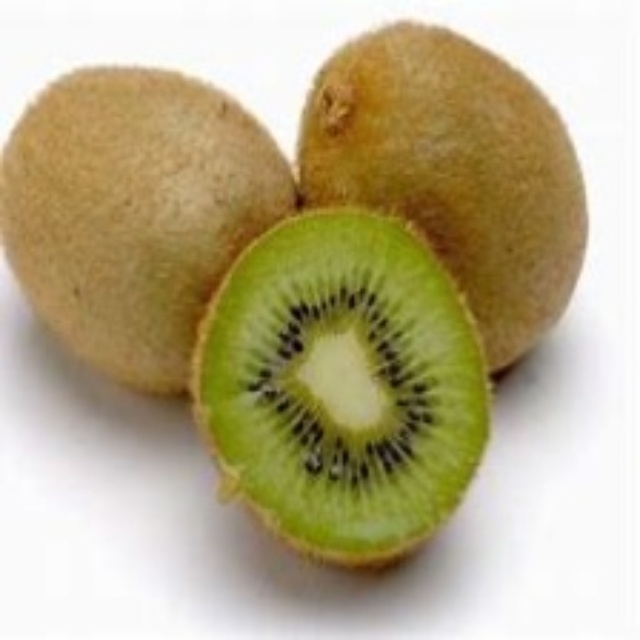kiwi: (191, 209, 489, 572), (305, 23, 589, 376), (0, 76, 291, 399)
